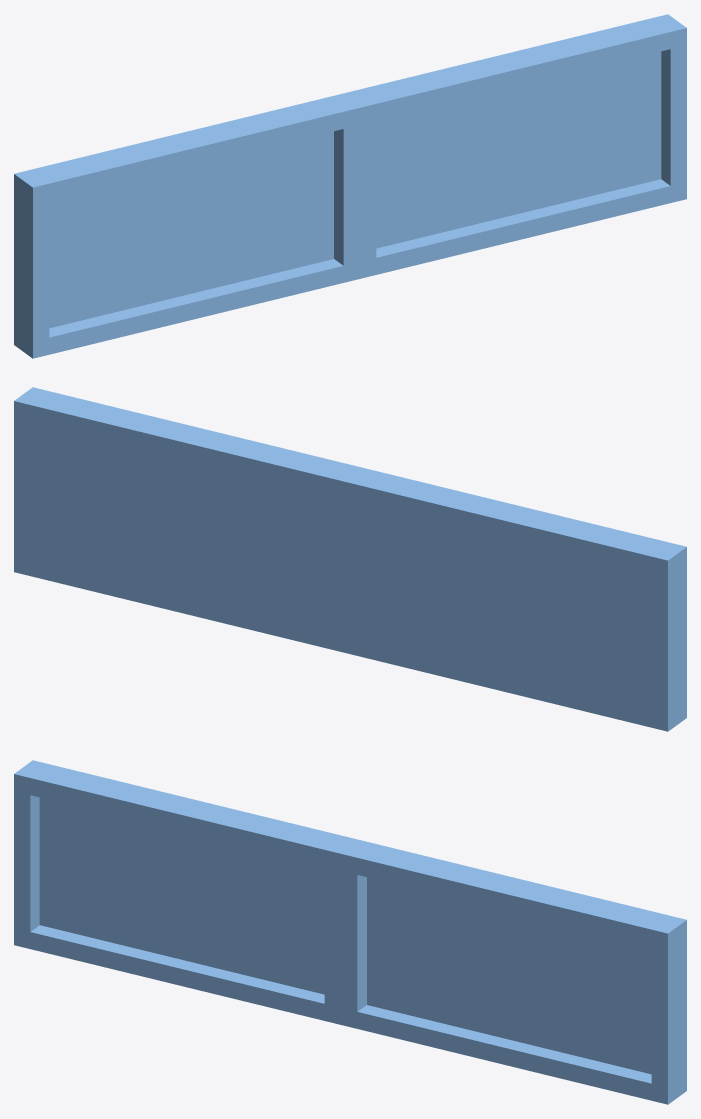
File: panel.glb
3 renders of one model, top to bottom at view 1: azimuth 30°, elevation 25°; view 2: azimuth 150°, elevation 25°; view 3: azimuth 330°, elevation 25°, orthographic.
Visible parts, largest first — view 1: Untitled; view 2: Untitled; view 3: Untitled.
Part boxes in pixels (x1,y1,x2,y2): Untitled: (14,14,686,358); Untitled: (14,387,686,731); Untitled: (14,760,686,1104).
Bounding box in the file's own units: 4 × 1 × 0.2.
1 material, 1 textured.
